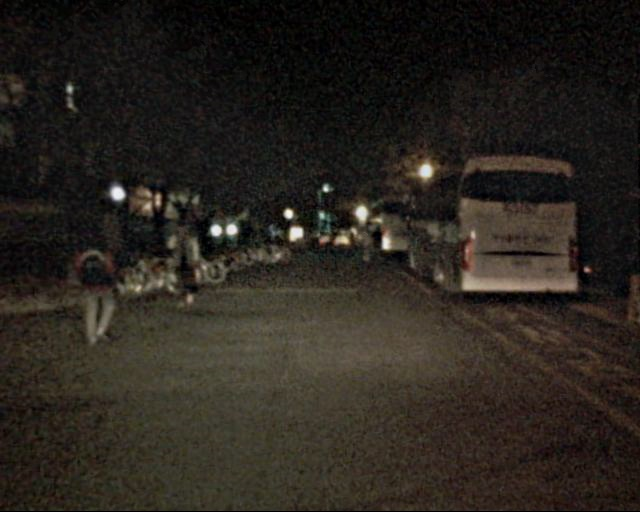person: (74, 222, 127, 347), (166, 220, 202, 305), (354, 226, 384, 265)
